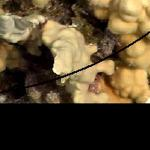alive: (1, 3, 148, 102)
